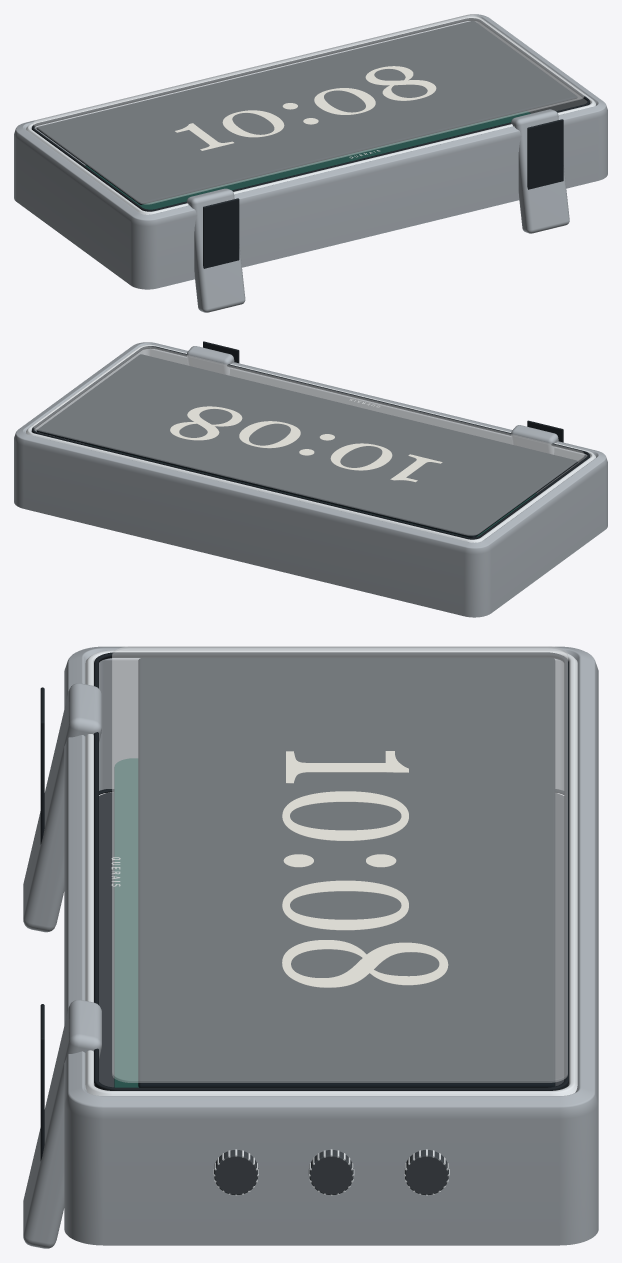
The model's file is slate.glb.
3 views of the same model, one above another, from view 1: azimuth 30°, elevation 25°; view 2: azimuth 150°, elevation 25°; view 3: azimuth 270°, elevation 25° (orthographic). The views are drawn at different scales.
Parts seen in each view (by area): view 1: Optical cover, Slate monocoque, Display_Main, Slate display recess, Milled cantilever.001, Milled cantilever, Recessed display gasket, Slate ceramic PCB, Diamond cut aperture, Preview time, Foot isolation pad, Foot isolation pad.001; view 2: Slate monocoque, Optical cover, Display_Main, Slate display recess, Diamond cut aperture, Recessed display gasket, Preview time, Milled cantilever, Milled cantilever.001; view 3: Optical cover, Display_Main, Slate monocoque, Slate display recess, Preview time, Diamond cut aperture, Recessed display gasket, Slate ceramic PCB, Removable service panel, Milled cantilever, Milled cantilever.001, Tactile side crown.001 (+2 smaller).
Boxes of the visible parts, x1,y1,x2,y2 form: Optical cover: (33, 15, 584, 204); Slate monocoque: (14, 14, 607, 289); Display_Main: (54, 27, 556, 191); Slate display recess: (36, 20, 577, 204); Milled cantilever.001: (511, 109, 569, 233); Milled cantilever: (187, 188, 245, 312); Recessed display gasket: (32, 18, 589, 211); Slate ceramic PCB: (85, 111, 530, 209); Diamond cut aperture: (26, 16, 595, 214); Preview time: (175, 66, 436, 150); Foot isolation pad: (203, 198, 239, 268); Foot isolation pad.001: (527, 119, 563, 189); Slate monocoque: (14, 342, 607, 617); Optical cover: (33, 346, 584, 535); Display_Main: (54, 363, 556, 528); Slate display recess: (36, 354, 577, 537); Diamond cut aperture: (26, 344, 595, 542); Recessed display gasket: (32, 346, 589, 539); Preview time: (170, 406, 442, 481); Milled cantilever: (511, 425, 558, 454); Milled cantilever.001: (187, 346, 234, 375); Optical cover: (112, 646, 567, 1082); Display_Main: (179, 666, 527, 1072); Slate monocoque: (64, 646, 598, 1245); Slate display recess: (138, 658, 555, 1087); Preview time: (282, 751, 448, 987); Diamond cut aperture: (85, 650, 577, 1095); Recessed display gasket: (94, 652, 568, 1090); Slate ceramic PCB: (114, 758, 138, 1087); Removable service panel: (99, 792, 564, 1087); Milled cantilever: (23, 683, 101, 932); Milled cantilever.001: (23, 1000, 101, 1248); Tactile side crown.001: (309, 1150, 353, 1195).
Size of the model in its own units: 6.52 by 1.39 by 3.38.
